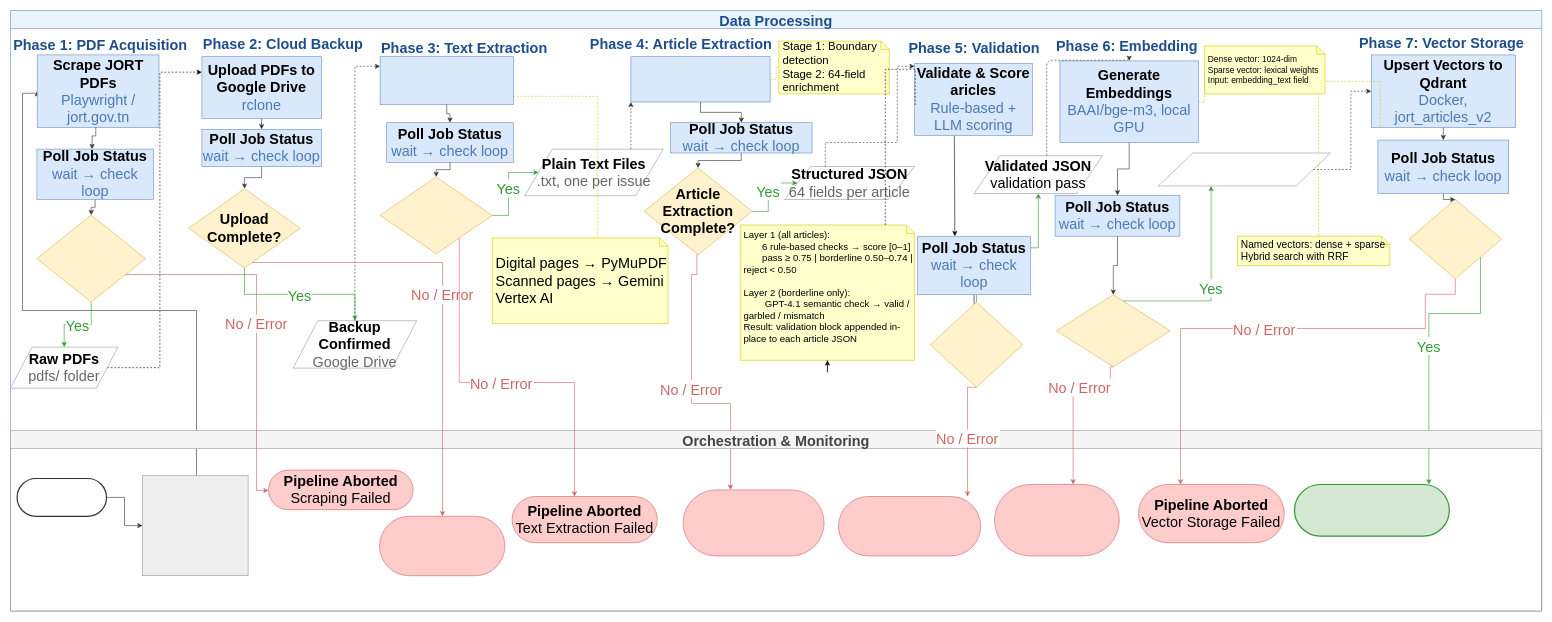
Some shapes in this 1552 by 622 pixel diagram are drawn without their labels. Here are the shapes that lost their labels. From the top down, the centre of each, then its label:
(446,80): Extract Text PyMuPDF + Gemini OCR
(700,79): Extract Articles GPT-4.1, Two-Stage
(1244,169): Vectors + Metadata .embeddings.json
(436,215): Extraction Complete?
(91,258): Scraping Complete?
(1455,239): Storage Complete?
(976,344): Validation Complete?
(1113,330): Embedding Complete?
(61,497): Pipeline Start
(1372,510): Pipeline Complete Qdrant Indexed
(195,525): Set Configuration years, timeouts, paths
(753,522): Pipeline Aborted Article Extraction Failed
(909,526): Pipeline Aborted Article Validation Failed
(1056,520): Pipeline Aborted Embedding Failed
(442,546): Pipeline Aborted Upload Failed
